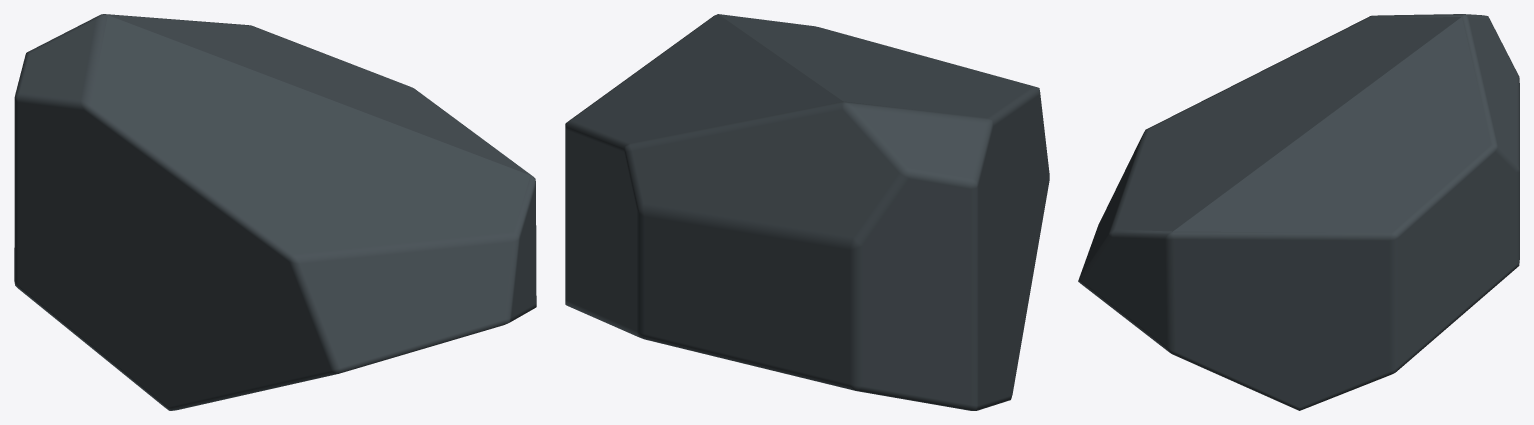
Rendered from SM_Stone02.fbx.
3 renders of one model, left to right at view 1: azimuth 30°, elevation 25°; view 2: azimuth 150°, elevation 25°; view 3: azimuth 270°, elevation 25°, orthographic. The views are drawn at different scales.
Visible parts, largest first — view 1: Stone02.001; view 2: Stone02.001; view 3: Stone02.001.
Boxes of the visible parts, x1=… form: Stone02.001: x1=14, y1=14, x2=536, y2=410; Stone02.001: x1=565, y1=14, x2=1049, y2=410; Stone02.001: x1=1078, y1=14, x2=1519, y2=410.
Bounding box in the file's own units: 148 × 120 × 168.
